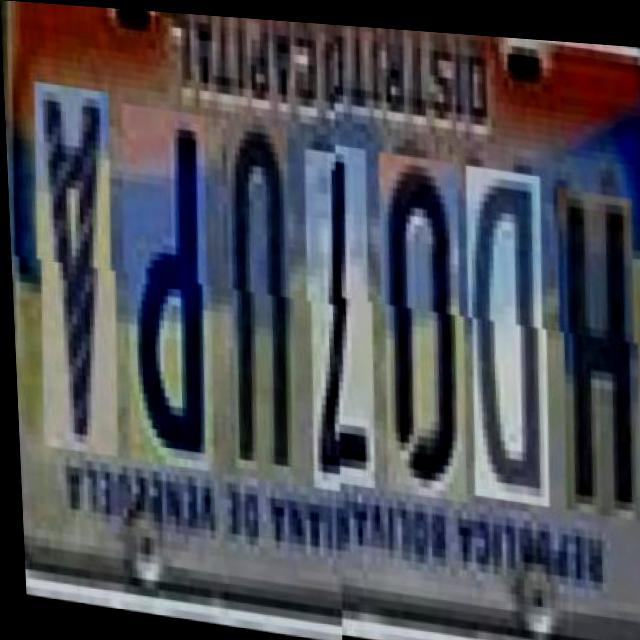0: (366, 150, 465, 499)
7: (292, 141, 374, 488)
a: (22, 83, 117, 457)
d: (454, 161, 548, 501)
h: (544, 181, 638, 512)
p: (110, 102, 213, 468)
u: (214, 115, 296, 479)
